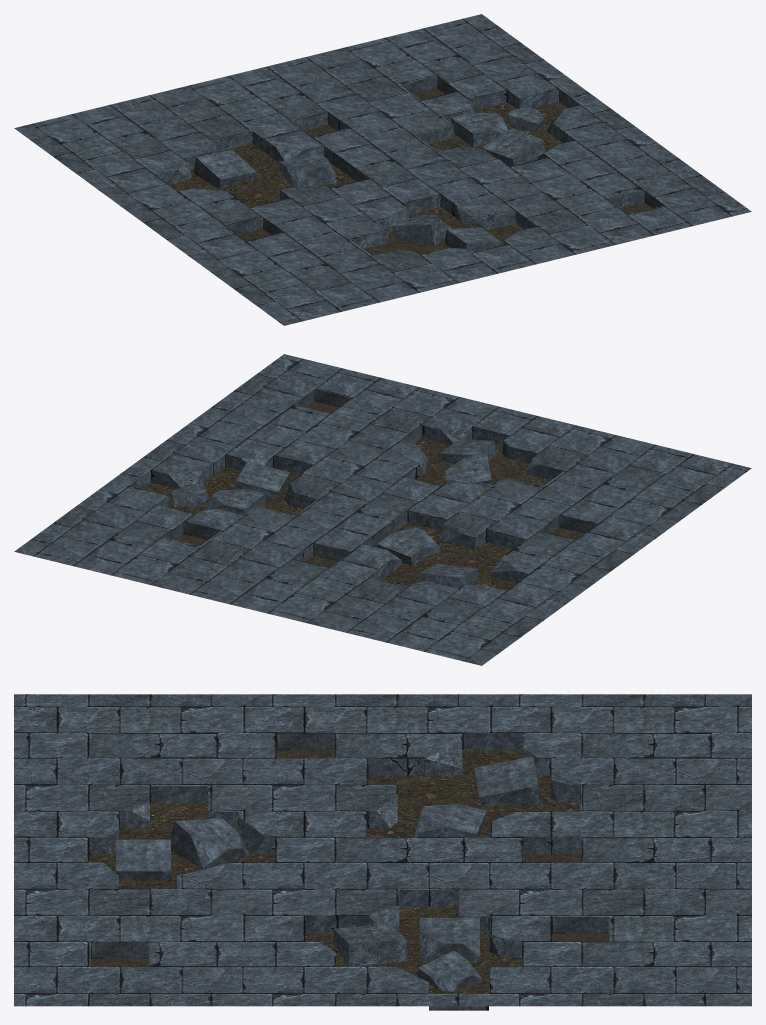
The model's file is broken_floor.FBX.
3 views of the same model, one above another, from view 1: azimuth 30°, elevation 25°; view 2: azimuth 150°, elevation 25°; view 3: azimuth 270°, elevation 25° (orthographic). The views are drawn at different scales.
Parts seen in each view (by area): view 1: Floor Destroyed; view 2: Floor Destroyed; view 3: Floor Destroyed.
Part boxes in pixels (left/top/right/bottom): Floor Destroyed: left=14, top=14, right=751, bottom=325; Floor Destroyed: left=14, top=354, right=751, bottom=665; Floor Destroyed: left=14, top=694, right=751, bottom=1010.
Size of the model in its own units: 91.85 by 6.26 by 91.85.
